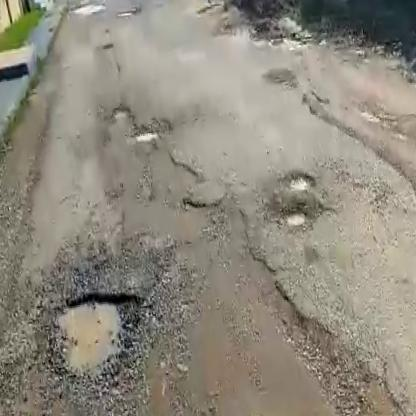pothole: (47, 287, 156, 389), (279, 169, 319, 195), (130, 127, 162, 146), (284, 209, 308, 232), (109, 105, 132, 124)
